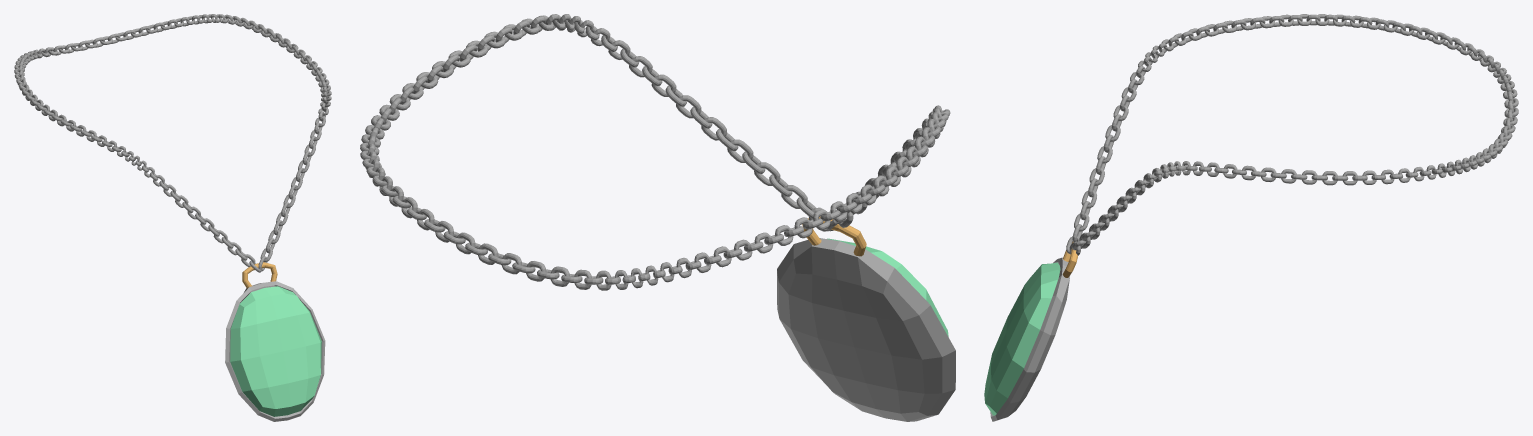
Rendered from Amulet.fbx.
3 renders of one model, left to right at view 1: azimuth 30°, elevation 25°; view 2: azimuth 150°, elevation 25°; view 3: azimuth 270°, elevation 25°, orthographic. The views are drawn at different scales.
Parts seen in each view (by area): view 1: Amulet; view 2: Amulet; view 3: Amulet.
Boxes of the visible parts, x1,y1,x2,y2 form: Amulet: (14,14,331,421); Amulet: (360,14,955,421); Amulet: (984,14,1518,421).
Size of the model in its own units: 825 by 774 by 1144.
